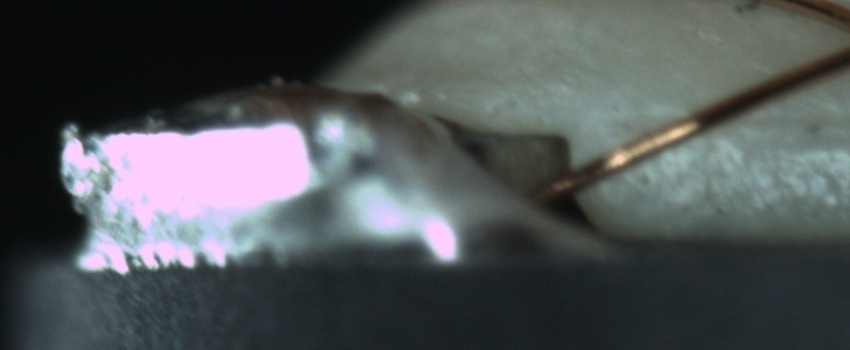DL: (631, 85, 848, 159)
